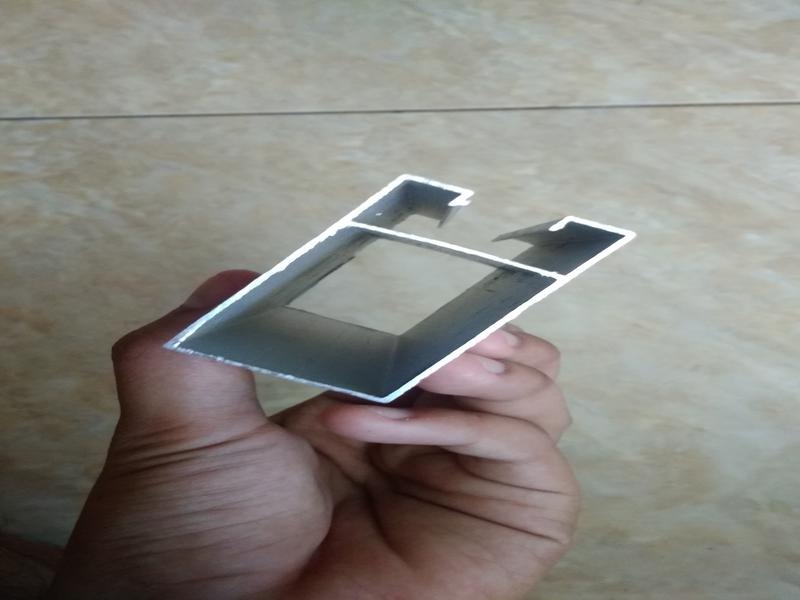Aluminium_1: (157, 122, 682, 413)
